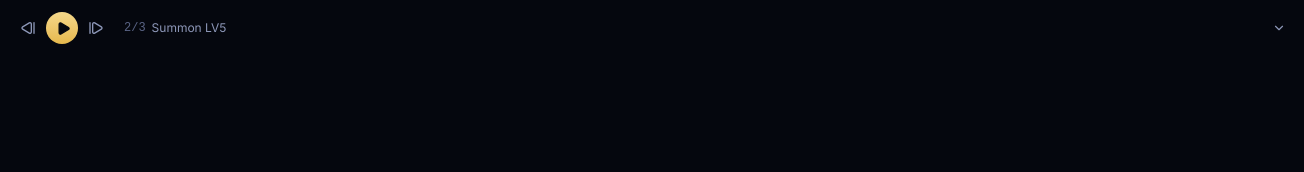
Test case: StepControls › shows the current step, and lists every step in the drawer
Check: the text "Summon LV5" is shown, box [152,20,226,35]
Click the button titled "Playback: scrub, speed, jump to a step": (189, 28) [118,16,1292,40]
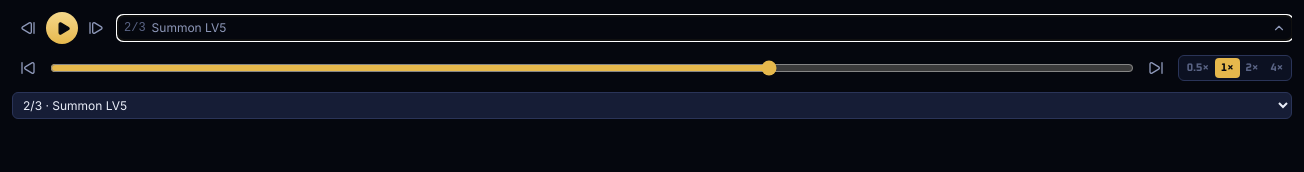
Check: the dropdown named "Jump to step" shows "2/3 · Summon LV5", box [12,92,1292,119]
